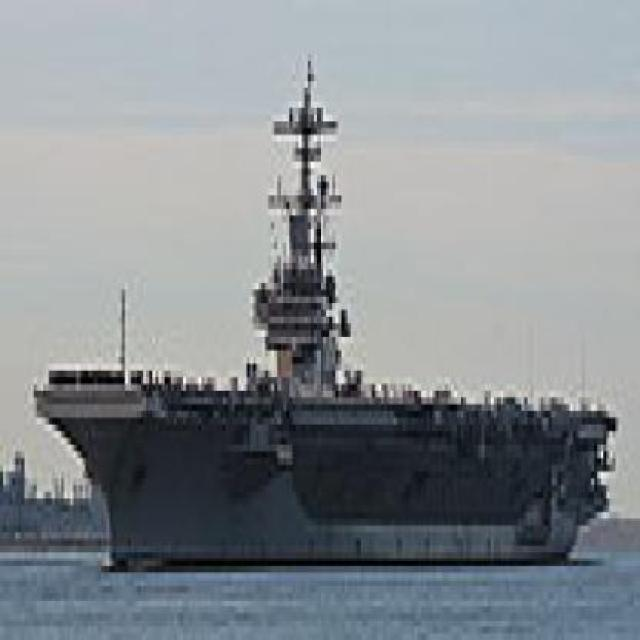warship2: (14, 41, 617, 607)
